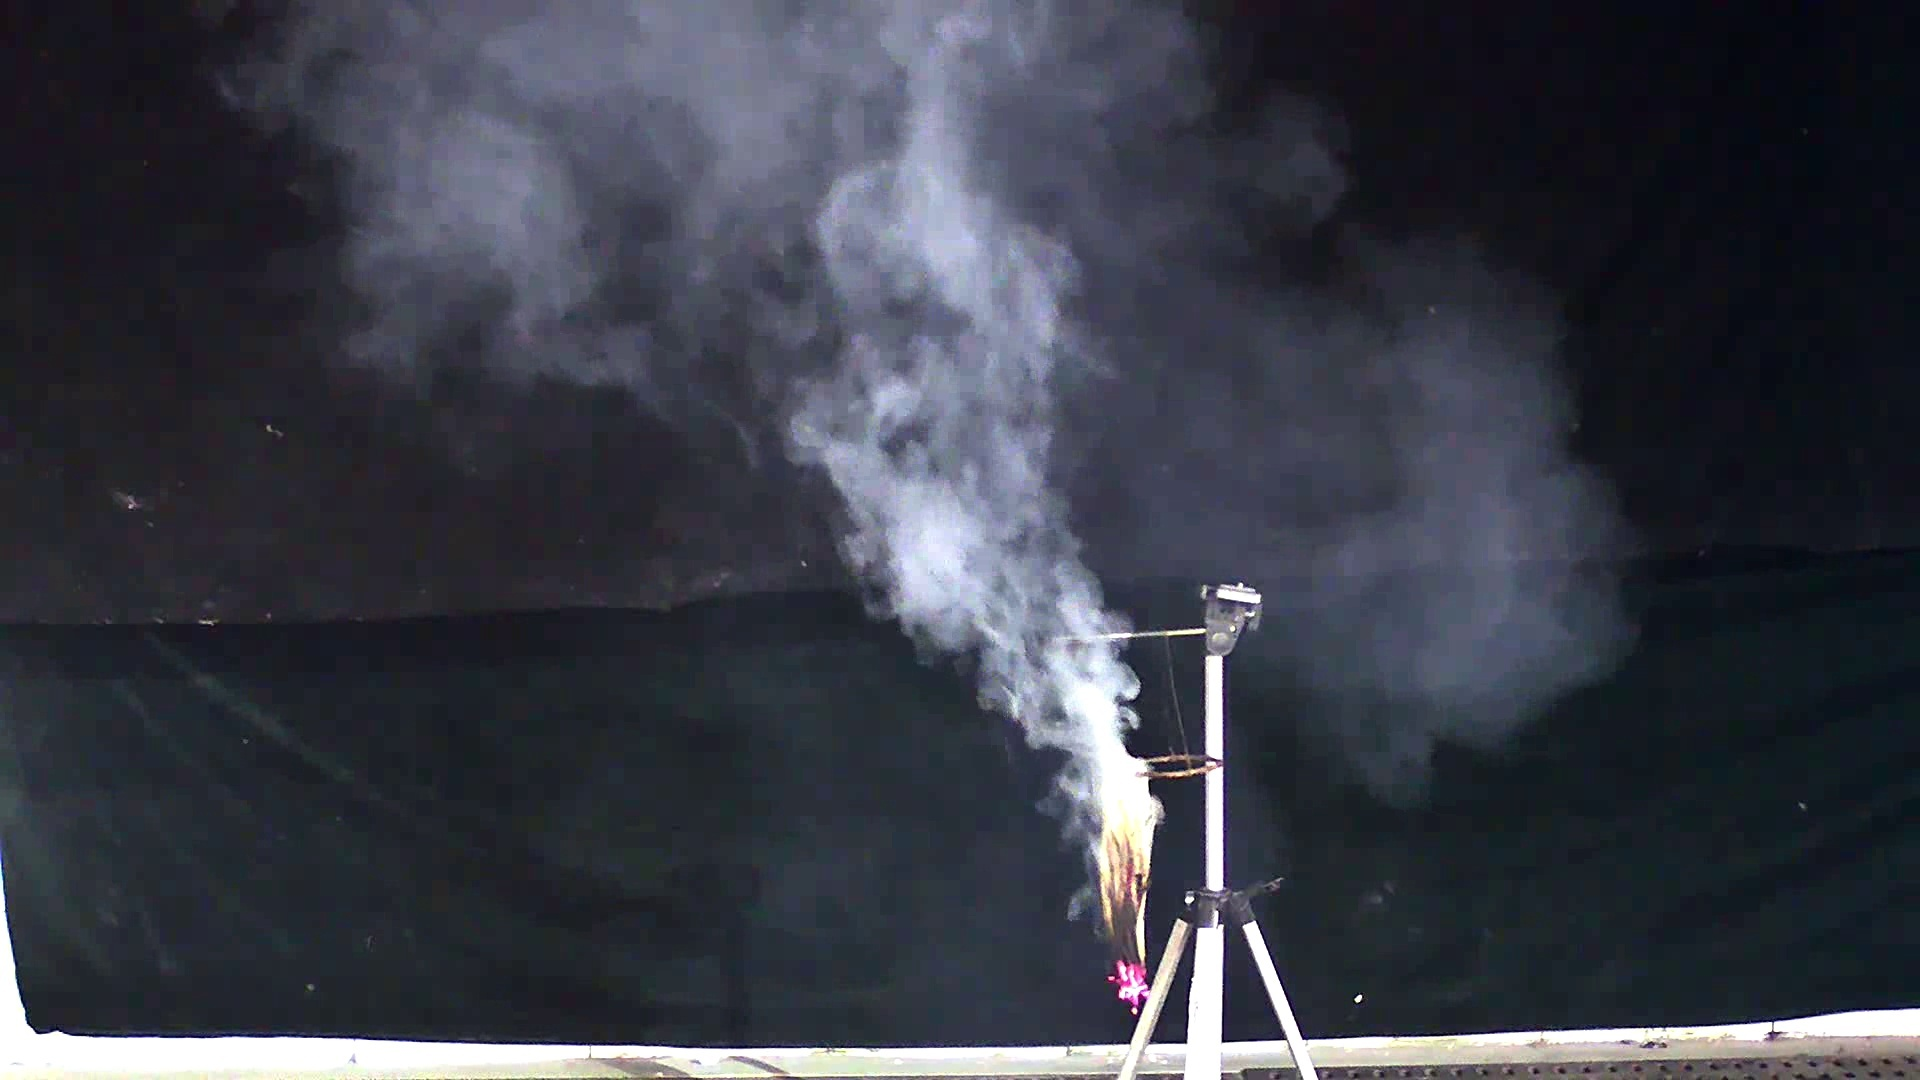smoke: (744, 178, 1211, 862)
